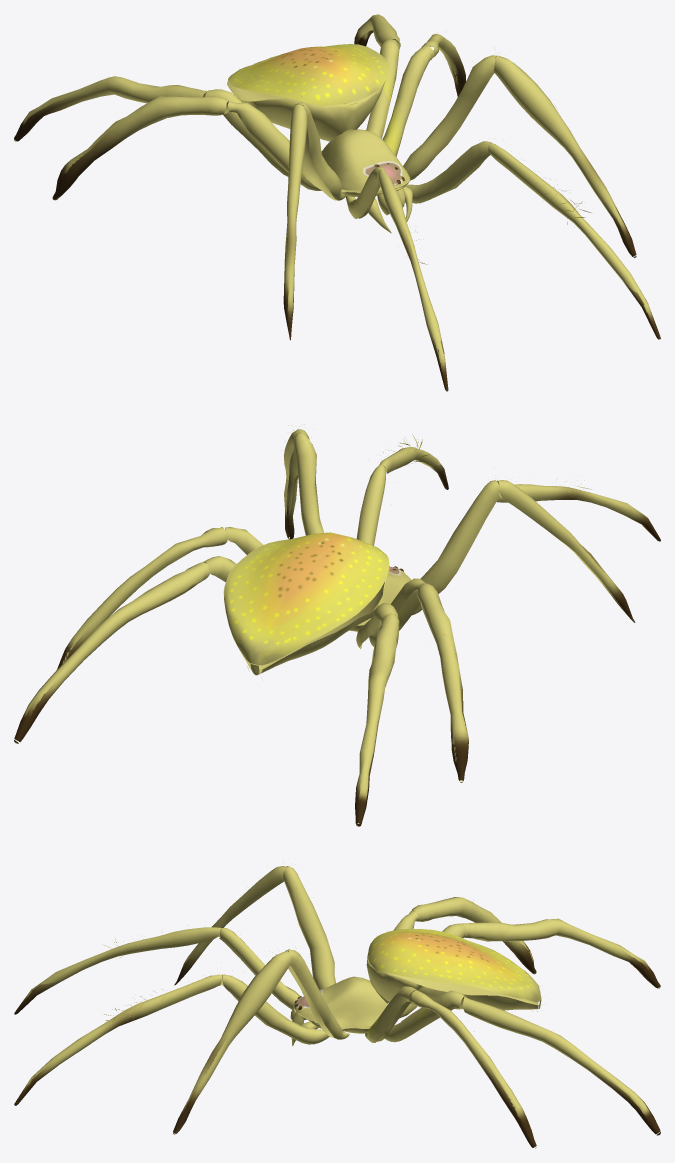
File: araignee_crabe.glb
3 renders of one model, top to bottom at view 1: azimuth 30°, elevation 25°; view 2: azimuth 150°, elevation 25°; view 3: azimuth 270°, elevation 25°, orthographic. The views are drawn at different scales.
Parts seen in each view (by area): view 1: Object_9; view 2: Object_9; view 3: Object_9.
Part boxes in pixels (x1,y1,x2,y2): Object_9: (14,14,660,391); Object_9: (14,424,660,826); Object_9: (14,863,660,1148).
Size of the model in its own units: 0.4843 by 0.2103 by 0.7523.
1 material, 1 textured.
